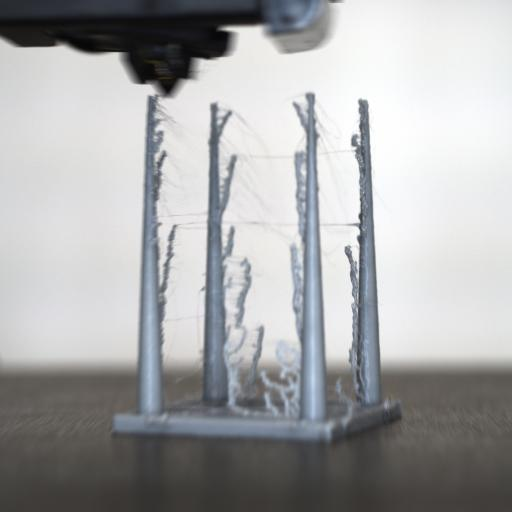stringing: (150, 92, 365, 410)
